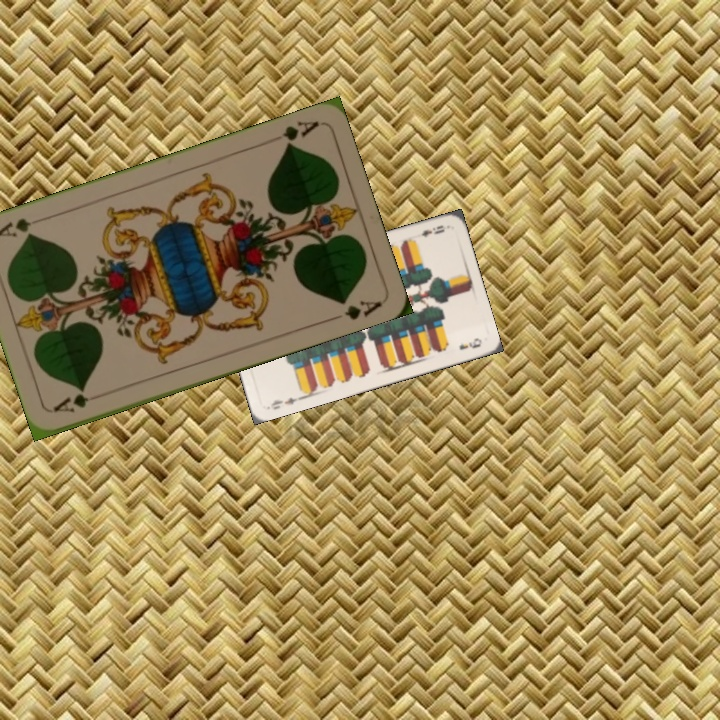E9: (264, 393, 304, 412), (417, 221, 447, 240)
GA: (49, 389, 107, 416), (278, 117, 322, 151)
